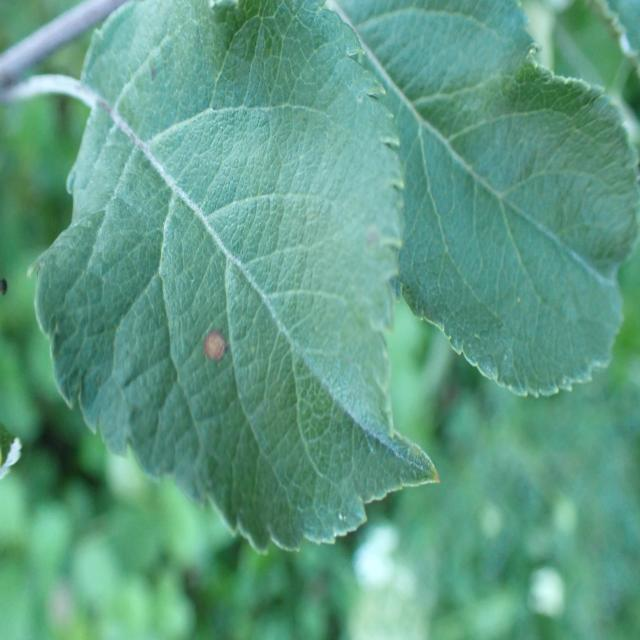frog-eye-leaf-spot: (27, 0, 443, 556)
